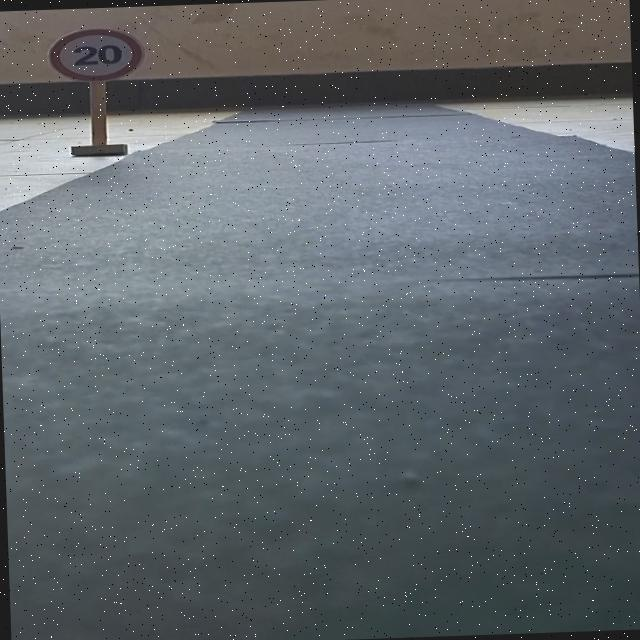Speed20: (41, 22, 150, 90)
